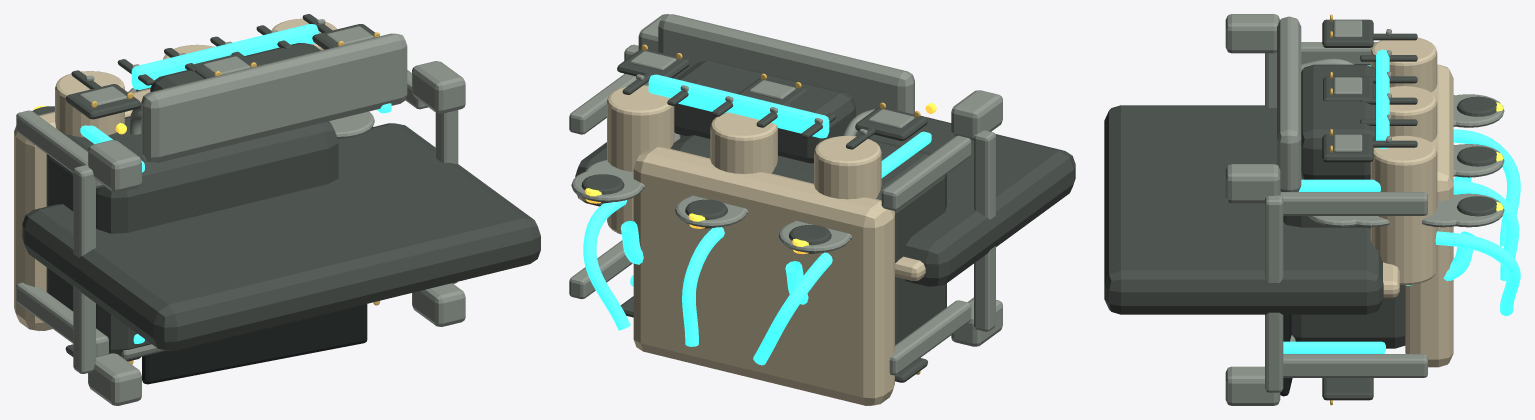
The model's file is refinery.glb.
3 views of the same model, side by side, from view 1: azimuth 30°, elevation 25°; view 2: azimuth 150°, elevation 25°; view 3: azimuth 270°, elevation 25° (orthographic). The views are drawn at different scales.
Parts seen in each view (by area): view 1: Layered armored foundation.002, Ore receiving apron, Ore separation hall, Black belt and cleats, Faceted ceramic process shell, Continuous side skid.004, Ore hopper lip, Fractionation pressure drum, Corner cast foot.011, Corner cast foot.009, Corner cast foot.008, Structural corner rail.010 (+9 smaller); view 2: Faceted ceramic process shell, Layered armored foundation.002, Ore receiving apron, Ore separation hall, Armored unload hopper, Fractionation pressure drum.002, Fractionation pressure drum, Fractionation pressure drum.001, Continuous side skid.004, Ore hopper lip, Structural corner rail.010, Structural corner rail.008 (+25 smaller); view 3: Layered armored foundation.002, Fractionation pressure drum.002, Faceted ceramic process shell, Armored unload hopper, Ore separation hall, Ore receiving apron, Structural corner rail.011, Structural corner rail.009, Continuous side skid.005, Fractionation pressure drum, Corner cast foot.009, Corner cast foot.011 (+28 smaller).
Part boxes in pixels (x1=…): Layered armored foundation.002: x1=22, y1=123, x2=540, y2=350; Ore receiving apron: x1=141, y1=33, x2=407, y2=162; Ore separation hall: x1=46, y1=116, x2=338, y2=360; Black belt and cleats: x1=142, y1=304, x2=367, y2=384; Faceted ceramic process shell: x1=14, y1=88, x2=150, y2=331; Continuous side skid.004: x1=73, y1=165, x2=95, y2=373; Ore hopper lip: x1=131, y1=24, x2=318, y2=89; Fractionation pressure drum: x1=55, y1=71, x2=124, y2=137; Corner cast foot.011: x1=412, y1=61, x2=465, y2=113; Corner cast foot.009: x1=88, y1=140, x2=141, y2=192; Corner cast foot.008: x1=88, y1=353, x2=141, y2=405; Structural corner rail.010: x1=16, y1=110, x2=104, y2=188; Faceted ceramic process shell: x1=633, y1=147, x2=894, y2=405; Layered armored foundation.002: x1=575, y1=115, x2=1075, y2=286; Ore receiving apron: x1=658, y1=14, x2=914, y2=138; Ore separation hall: x1=670, y1=135, x2=946, y2=344; Armored unload hopper: x1=674, y1=60, x2=855, y2=163; Fractionation pressure drum.002: x1=607, y1=85, x2=674, y2=234; Fractionation pressure drum: x1=814, y1=135, x2=881, y2=199; Fractionation pressure drum.001: x1=710, y1=112, x2=777, y2=173; Continuous side skid.004: x1=974, y1=130, x2=995, y2=331; Ore hopper lip: x1=648, y1=74, x2=829, y2=138; Structural corner rail.010: x1=881, y1=135, x2=971, y2=210; Structural corner rail.008: x1=889, y1=300, x2=971, y2=375; Layered armored foundation.002: x1=1104, y1=105, x2=1383, y2=314; Fractionation pressure drum.002: x1=1370, y1=135, x2=1437, y2=285; Faceted ceramic process shell: x1=1405, y1=64, x2=1453, y2=367; Armored unload hopper: x1=1301, y1=64, x2=1375, y2=179; Ore separation hall: x1=1283, y1=176, x2=1405, y2=348; Ore receiving apron: x1=1277, y1=16, x2=1301, y2=191; Structural corner rail.011: x1=1280, y1=192, x2=1427, y2=215; Structural corner rail.009: x1=1283, y1=354, x2=1427, y2=377; Continuous side skid.005: x1=1265, y1=195, x2=1283, y2=392; Fractionation pressure drum: x1=1370, y1=37, x2=1437, y2=92; Corner cast foot.009: x1=1225, y1=14, x2=1279, y2=53; Corner cast foot.011: x1=1225, y1=164, x2=1280, y2=203.
Size of the model in its own units: 2.8 by 2.07 by 2.76.
